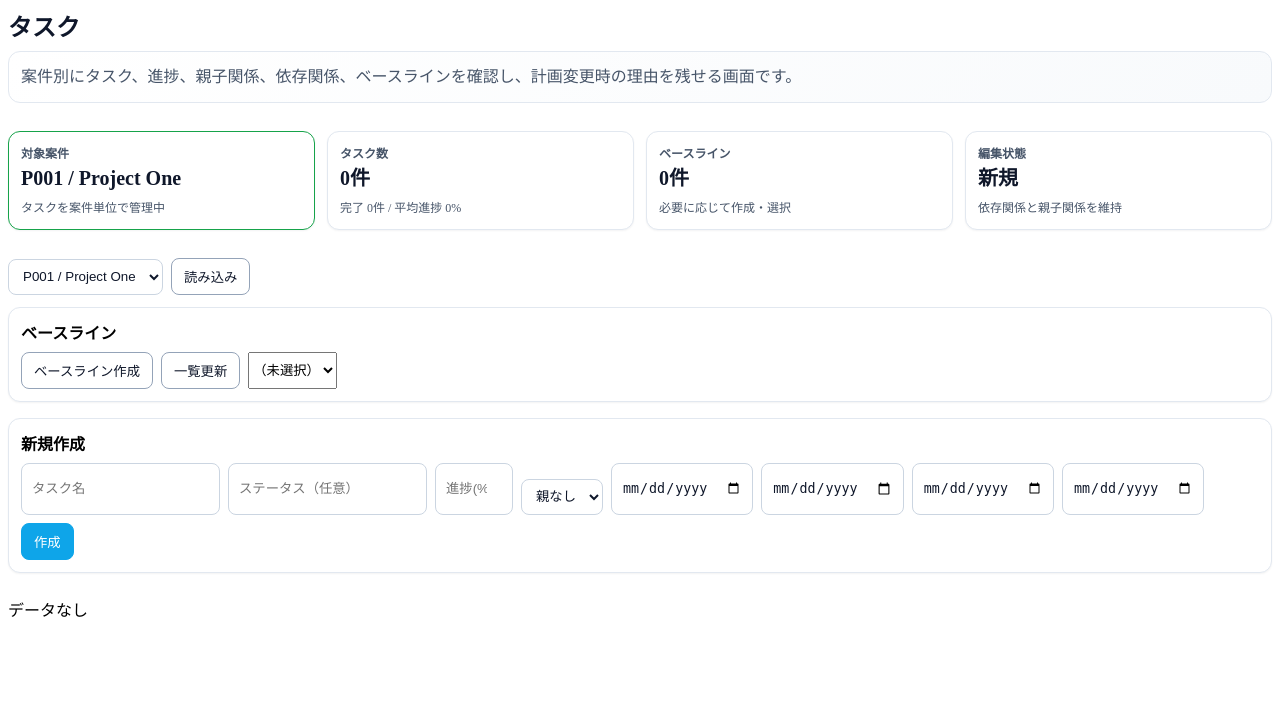
Test: ProjectTasks › creates a baseline with a trimmed name and loads its detail
Click the button "ベースライン作成" at coordinates (87, 370), box [21, 352, 153, 389]
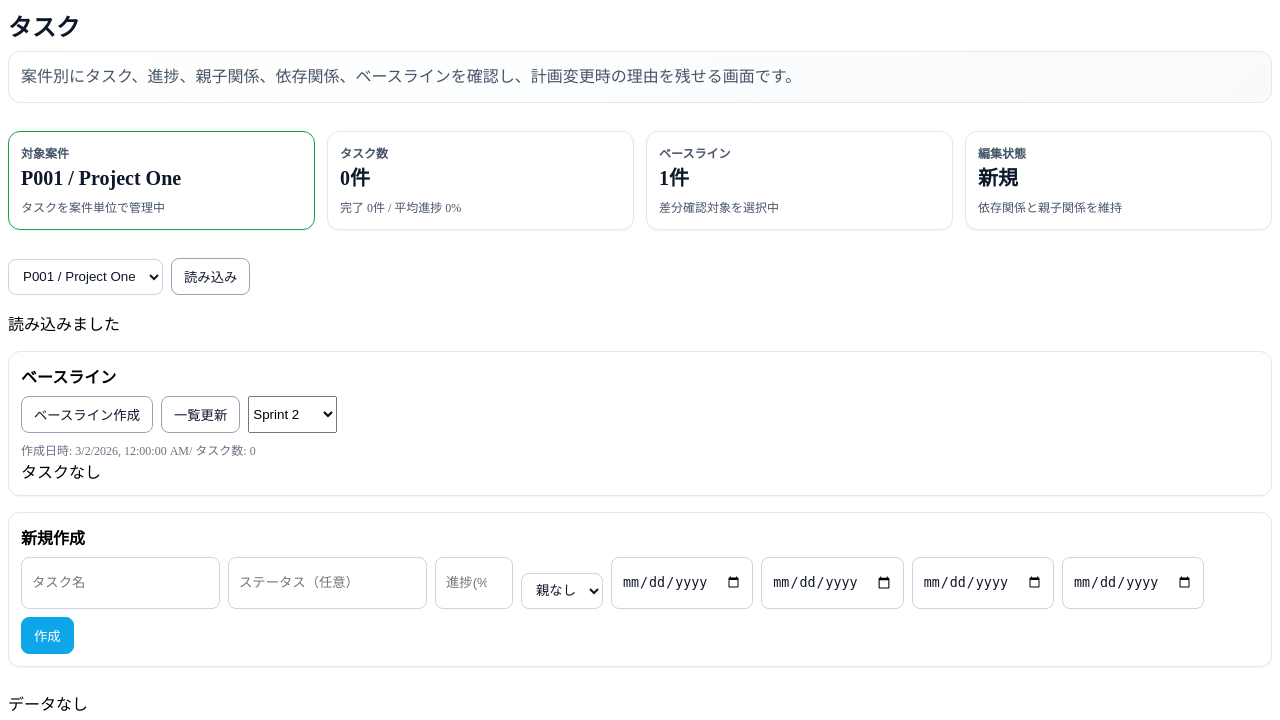
expect the text "ベースラインを作成しました" is shown: met, box [8, 316, 120, 333]
expect the text "タスクなし" is shown: met, box [21, 464, 101, 481]
